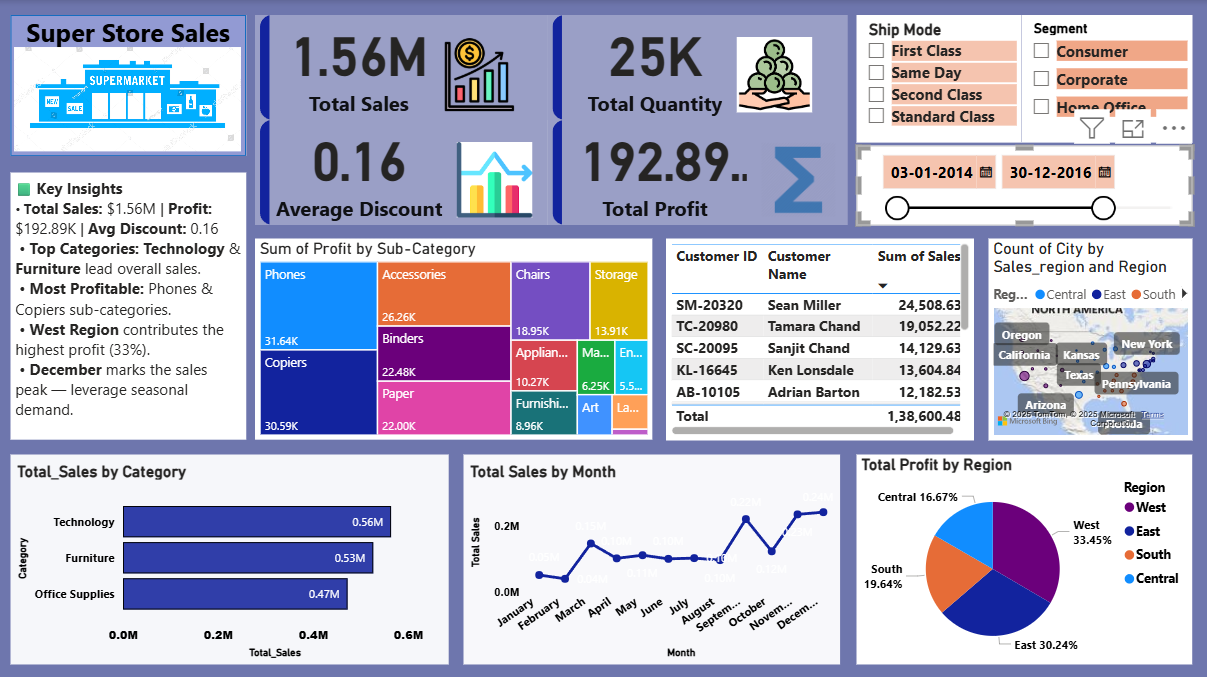

What the dashboard file says about the page in this screenshot:
{"tool":"powerbi","page":{"name":"Page 1","canvas":[1280,720],"ordinal":0},"visuals":[{"type":"clusteredBarChart","fields":{"Category":["Sample - Superstore.Category"],"Y":["Sample - Superstore.Sales"]},"box":[11.1,482,464.5,222.7],"z":0},{"type":"cardVisual","fields":{"Data":["Sample - Superstore.Discount"]},"box":[270.4,127.2,311.8,111.3],"z":1000},{"type":"cardVisual","fields":{"Data":["Sample - Superstore.Sales"]},"box":[270.4,15.9,310.2,111.3],"z":2000},{"type":"cardVisual","fields":{"Data":["Sample - Superstore.Profit"]},"box":[580.6,127.2,318.1,111.3],"z":3000},{"type":"cardVisual","fields":{"Data":["Sample - Superstore.Quantity"]},"box":[580.6,15.9,318.1,111.3],"z":4000},{"type":"lineChart","fields":{"Category":["Sample - Superstore.Order Date.Variation.Date Hierarchy.Month"],"Y":["Sample - Superstore.Sales"]},"box":[491.5,482,399.2,222.7],"z":5000},{"type":"map","fields":{"Size":["Sample - Superstore.City"],"Category":["Sample - Superstore.State"],"Series":["Sample - Superstore.Region"]},"box":[1048.2,252.9,216.3,213.1],"z":6000},{"type":"treemap","fields":{"Group":["Sample - Superstore.Sub-Category"],"Values":["Sample - Superstore.Profit"]},"box":[270.4,252.9,421.5,213.1],"z":7000},{"type":"tableEx","fields":{"Values":["Sample - Superstore.Customer ID","Sample - Superstore.Customer Name","Sample - Superstore.Sales"]},"box":[706.2,252.9,326.1,213.1],"z":8000},{"type":"slicer","fields":{"Values":["Sample - Superstore.Ship Mode"]},"box":[908.2,15.9,175,135.2],"z":9000},{"type":"slicer","fields":{"Values":["Sample - Superstore.Segment"]},"box":[1083.2,15.9,181.3,135.2],"z":10000},{"type":"slicer","fields":{"Values":["Sample - Superstore.Order Date"]},"box":[908.2,154.3,356.3,84.3],"z":11000},{"type":"shape","box":[11.1,15.9,249.7,149.5],"z":12000},{"type":"pieChart","fields":{"Category":["Sample - Superstore.Region"],"Y":["Sample - Superstore.Profit"]},"box":[908.2,482,356.3,222.7],"z":13000},{"type":"image","box":[9.5,44.5,260.9,120.9],"z":14000},{"type":"textbox","box":[11.1,182.9,249.7,283.1],"z":14001}]}

Visuals, with their boxes in screenshot pixels (x1, y1, x2, y2), scaled from the page's 1280x720 canvas onto the 1207x677 screenshot:
clusteredBarChart - Sample - Superstore.Category x Sample - Superstore.Sales: 10,453,448,663
cardVisual - Sample - Superstore.Discount: 255,120,549,224
cardVisual - Sample - Superstore.Sales: 255,15,547,120
cardVisual - Sample - Superstore.Profit: 547,120,847,224
cardVisual - Sample - Superstore.Quantity: 547,15,847,120
lineChart - Sample - Superstore.Order Date.Variation.Date Hierarchy.Month x Sample - Superstore.Sales: 463,453,840,663
map - Sample - Superstore.City x Sample - Superstore.State: 988,238,1192,438
treemap - Sample - Superstore.Sub-Category x Sample - Superstore.Profit: 255,238,652,438
tableEx - Sample - Superstore.Customer ID x Sample - Superstore.Customer Name: 666,238,973,438
slicer - Sample - Superstore.Ship Mode: 856,15,1021,142
slicer - Sample - Superstore.Segment: 1021,15,1192,142
slicer - Sample - Superstore.Order Date: 856,145,1192,224
shape: 10,15,246,156
pieChart - Sample - Superstore.Region x Sample - Superstore.Profit: 856,453,1192,663
image: 9,42,255,156
textbox: 10,172,246,438
